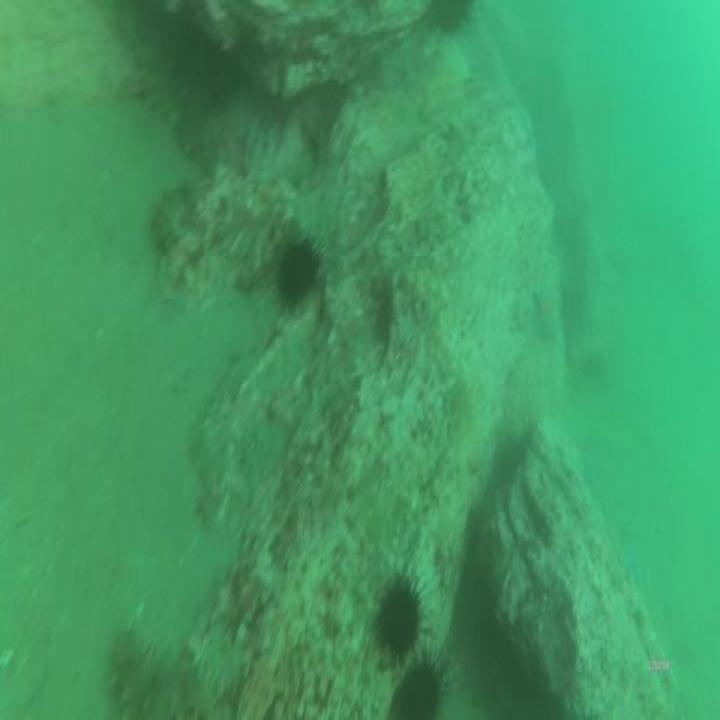echinus: (373, 569, 427, 675), (268, 233, 325, 315), (388, 649, 445, 720), (418, 0, 476, 39)
holothurian: (106, 627, 212, 720)
